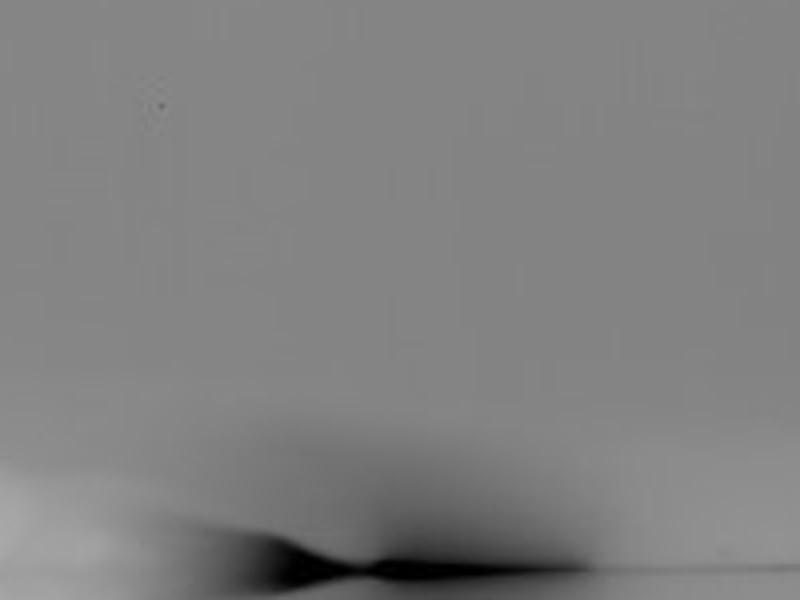defect: (220, 530, 358, 594), (368, 561, 587, 579), (156, 100, 167, 113)
